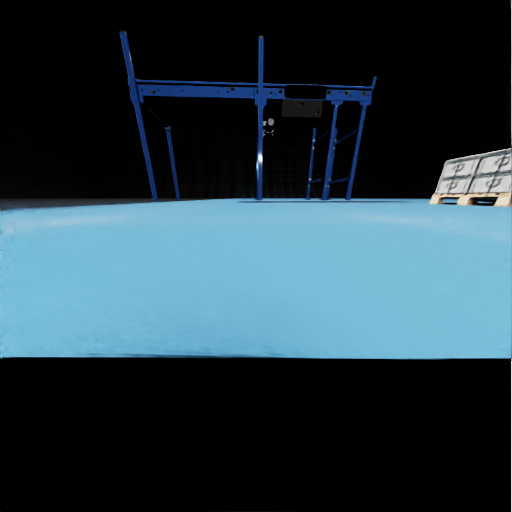transportation_area: (485, 148, 508, 196), (468, 171, 511, 193), (454, 157, 461, 175), (450, 177, 453, 186), (447, 188, 449, 194), (270, 92, 271, 93)
